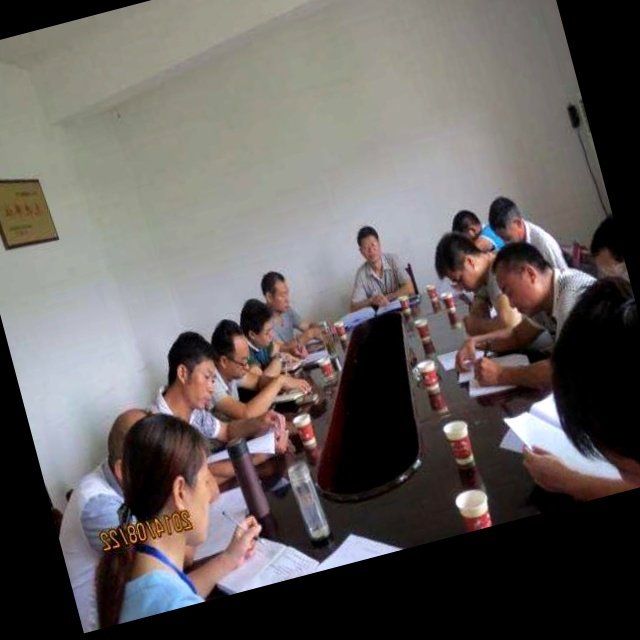Sin_Casco_Mascarrilla: (353, 221, 387, 270)
